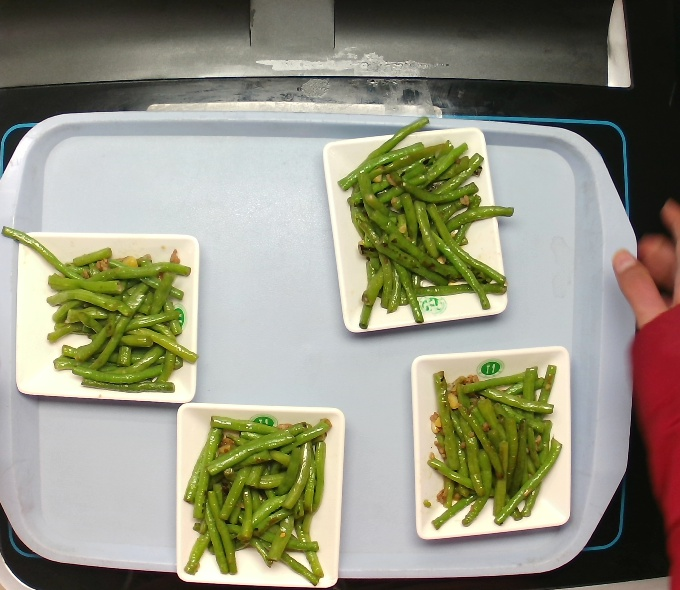wcq-RouMoJiangDou: (343, 133, 511, 329), (176, 388, 338, 589), (413, 351, 573, 541), (30, 232, 191, 396)
